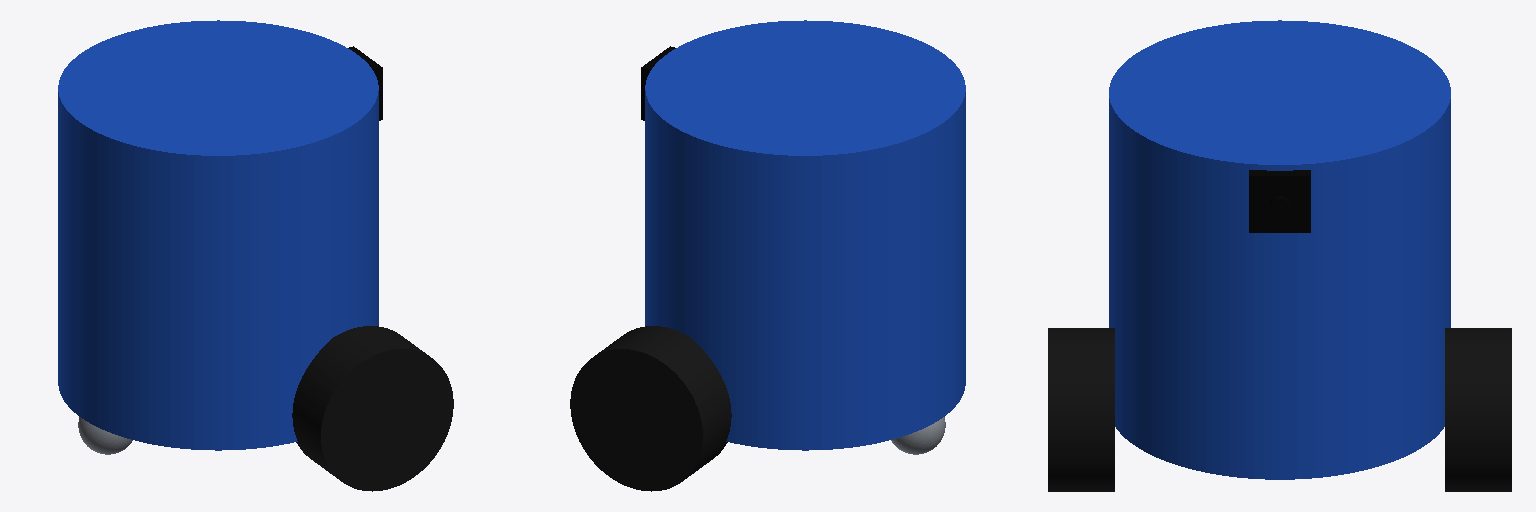
The robot description file, URDF, robot "turtlebot":
<robot name="turtlebot">
  <link name="chassis">
    <visual>
      <origin xyz="-0 -0 -0" rpy="0 0 0" />
      <geometry>
        <mesh filename="meshes/chassis.stl" />
      </geometry>
      <material name="chassis_material">
        <color rgba="0.15 0.35 0.75 1" />
      </material>
    </visual>
    <collision>
      <origin xyz="-0 -0 -0" rpy="0 0 0" />
      <geometry>
        <mesh filename="meshes/chassis.stl" />
      </geometry>
    </collision>
    <inertial>
      <origin xyz="0 0 0.09" rpy="0 0 0" />
      <mass value="0.82" />
      <inertia ixx="0.00264067333" iyy="0.00264067333" izz="0.00260268" ixy="0" ixz="0" iyz="0" />
    </inertial>
  </link>
  <link name="left_wheel">
    <visual>
      <origin xyz="-0.03 -0.08 -0.033" rpy="0 0 0" />
      <geometry>
        <mesh filename="meshes/left_wheel.stl" />
      </geometry>
      <material name="left_wheel_material">
        <color rgba="0.12 0.12 0.12 1" />
      </material>
    </visual>
    <collision>
      <origin xyz="-0.03 -0.08 -0.033" rpy="0 0 0" />
      <geometry>
        <mesh filename="meshes/left_wheel.stl" />
      </geometry>
    </collision>
    <inertial>
      <origin xyz="0 0 0" rpy="0 0 0" />
      <mass value="0.03" />
      <inertia ixx="1.27125e-05" iyy="2.178e-05" izz="1.27125e-05" ixy="0" ixz="0" iyz="0" />
    </inertial>
  </link>
  <link name="right_wheel">
    <visual>
      <origin xyz="-0.03 0.08 -0.033" rpy="0 0 0" />
      <geometry>
        <mesh filename="meshes/right_wheel.stl" />
      </geometry>
      <material name="right_wheel_material">
        <color rgba="0.12 0.12 0.12 1" />
      </material>
    </visual>
    <collision>
      <origin xyz="-0.03 0.08 -0.033" rpy="0 0 0" />
      <geometry>
        <mesh filename="meshes/right_wheel.stl" />
      </geometry>
    </collision>
    <inertial>
      <origin xyz="0 0 0" rpy="0 0 0" />
      <mass value="0.03" />
      <inertia ixx="1.27125e-05" iyy="2.178e-05" izz="1.27125e-05" ixy="0" ixz="0" iyz="0" />
    </inertial>
  </link>
  <link name="caster">
    <visual>
      <origin xyz="0.055 -0 -0.0127" rpy="0 0 0" />
      <geometry>
        <mesh filename="meshes/caster.stl" />
      </geometry>
      <material name="caster_material">
        <color rgba="0.55 0.57 0.6 1" />
      </material>
    </visual>
    <collision>
      <origin xyz="0.055 -0 -0.0127" rpy="0 0 0" />
      <geometry>
        <mesh filename="meshes/caster.stl" />
      </geometry>
    </collision>
    <inertial>
      <origin xyz="0 0 0" rpy="0 0 0" />
      <mass value="0.0673549362" />
      <inertia ixx="7.24245177e-06" iyy="7.24245177e-06" izz="7.24245177e-06" ixy="0" ixz="0" iyz="0" />
    </inertial>
  </link>
  <link name="camera">
    <visual>
      <origin xyz="-0.062 -0 -0.145" rpy="0 0 0" />
      <geometry>
        <mesh filename="meshes/camera.stl" />
      </geometry>
      <material name="camera_material">
        <color rgba="0.06 0.06 0.06 1" />
      </material>
    </visual>
    <collision>
      <origin xyz="-0.062 -0 -0.145" rpy="0 0 0" />
      <geometry>
        <mesh filename="meshes/camera.stl" />
      </geometry>
    </collision>
    <inertial>
      <origin xyz="0.0015 0 -2.77555756e-17" rpy="0 0 0" />
      <mass value="0.02" />
      <inertia ixx="2.08333333e-06" iyy="2.34833333e-06" izz="2.34833333e-06" ixy="0" ixz="0" iyz="0" />
    </inertial>
  </link>
  <joint name="left_axle" type="continuous">
    <parent link="chassis" />
    <child link="left_wheel" />
    <origin xyz="0.03 0.08 0.033" rpy="0 0 0" />
    <axis xyz="0 1 0" />
    <limit effort="100" velocity="10" />
  </joint>
  <joint name="right_axle" type="continuous">
    <parent link="chassis" />
    <child link="right_wheel" />
    <origin xyz="0.03 -0.08 0.033" rpy="0 0 0" />
    <axis xyz="0 1 0" />
    <limit effort="100" velocity="10" />
  </joint>
  <joint name="caster_joint" type="fixed">
    <parent link="chassis" />
    <child link="caster" />
    <origin xyz="-0.055 0 0.0127" rpy="0 0 0" />
  </joint>
  <joint name="camera_joint" type="fixed">
    <parent link="chassis" />
    <child link="camera" />
    <origin xyz="0.062 0 0.145" rpy="0 0 0" />
  </joint>
</robot>

--- Render facts (derived) ---
3 views of the same robot in one strip: view 1: azimuth 30°, elevation 25°; view 2: azimuth 150°, elevation 25°; view 3: azimuth 270°, elevation 25° (orthographic).
Robot: turtlebot — 5 links, 4 joints (2 continuous, 2 fixed); root link chassis; default pose: all joints at 0.
Visible links, largest first — view 1: chassis, right_wheel, caster; view 2: chassis, left_wheel, caster; view 3: chassis, left_wheel, right_wheel, camera.
Boxes of the visible links, box(x1,y1,x2,y2) form: chassis: box(58, 20, 378, 450); right_wheel: box(292, 326, 453, 491); caster: box(78, 417, 132, 454); chassis: box(645, 20, 965, 450); left_wheel: box(570, 326, 731, 491); caster: box(891, 417, 945, 454); chassis: box(1109, 20, 1450, 479); left_wheel: box(1445, 328, 1511, 491); right_wheel: box(1048, 328, 1114, 491); camera: box(1249, 170, 1310, 232).
Size in the robot's own frame: 0.1465 by 0.187 by 0.16 metres.
5 mesh visuals loaded from 5 distinct referenced files (5 binary STL).
